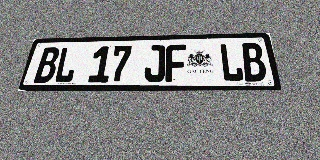1: (88, 46, 113, 83)
7: (108, 46, 132, 82)
B: (240, 43, 268, 81), (33, 47, 61, 83)
F: (165, 44, 186, 82)
J: (144, 45, 165, 82)
L: (219, 43, 244, 82), (53, 47, 79, 83)
